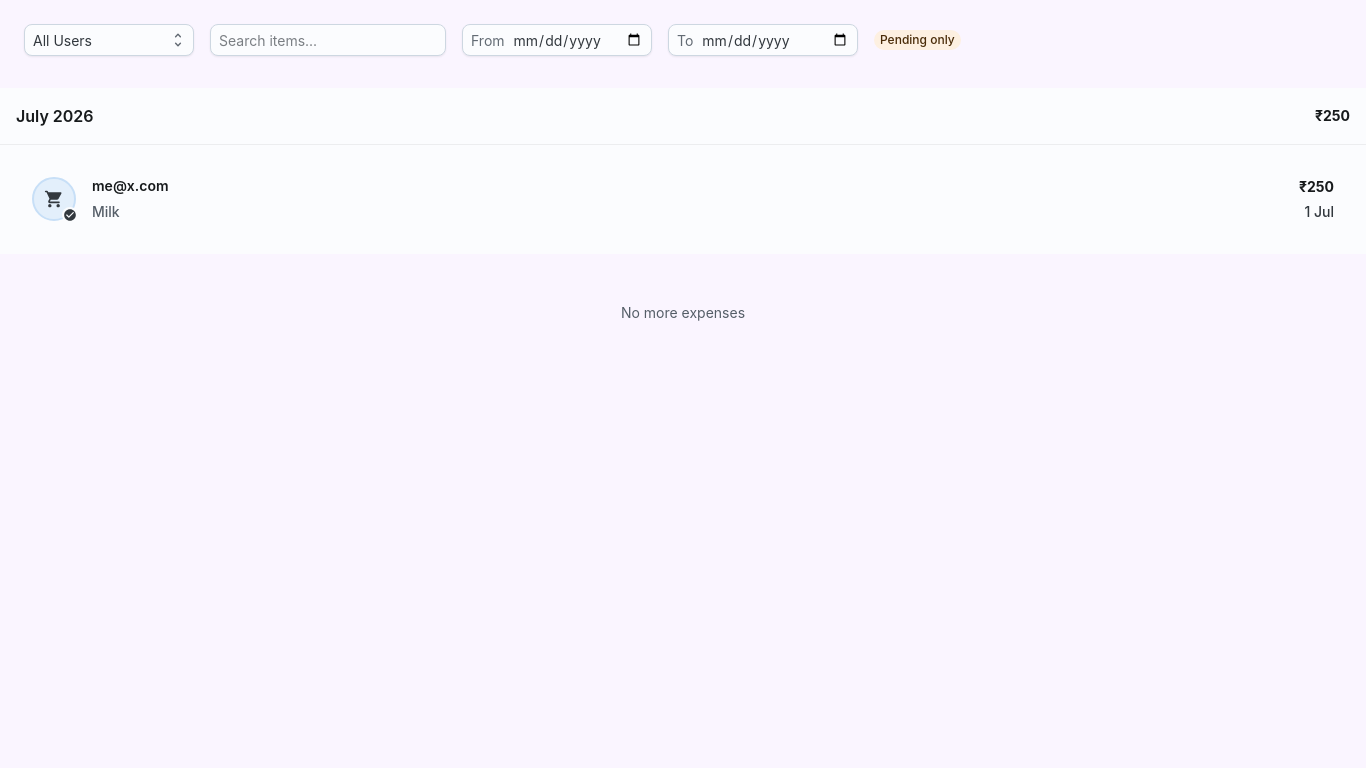
Test: ExpenseHistory - expense detail popup › shows an error message in the modal when the detail fetch fails
Click the text "Milk": (106, 212) 92,201 -> 120,222
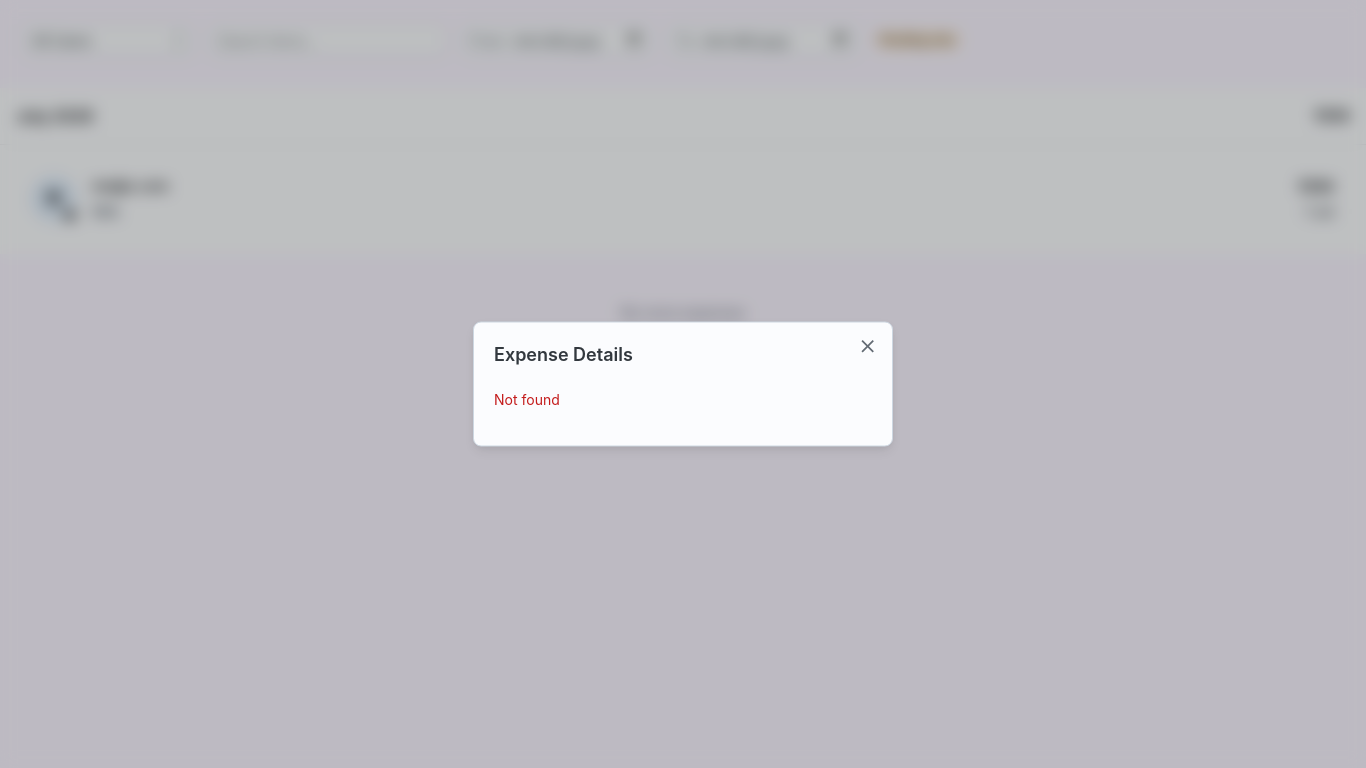
Check: the text "Not found" is shown, box 494,390 -> 560,408
